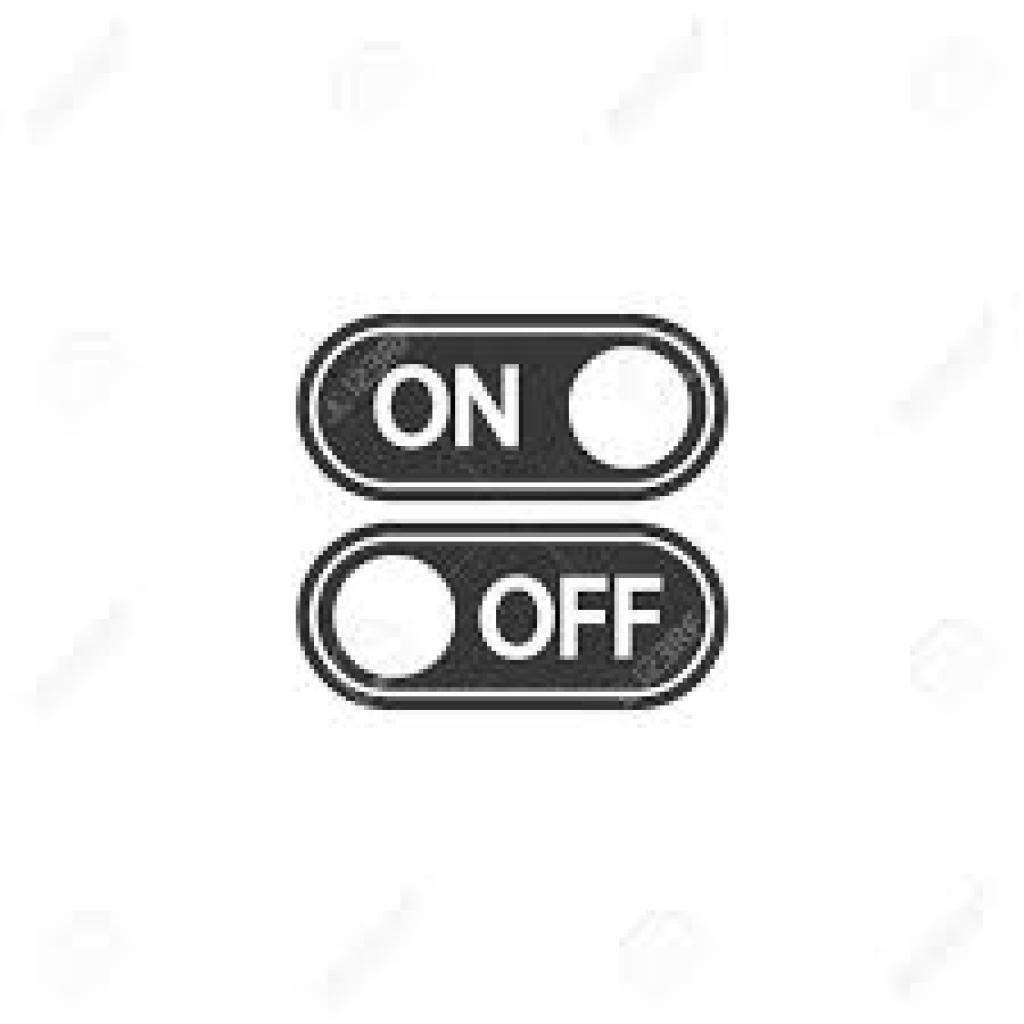switch: (288, 521, 742, 713), (289, 314, 732, 509)
